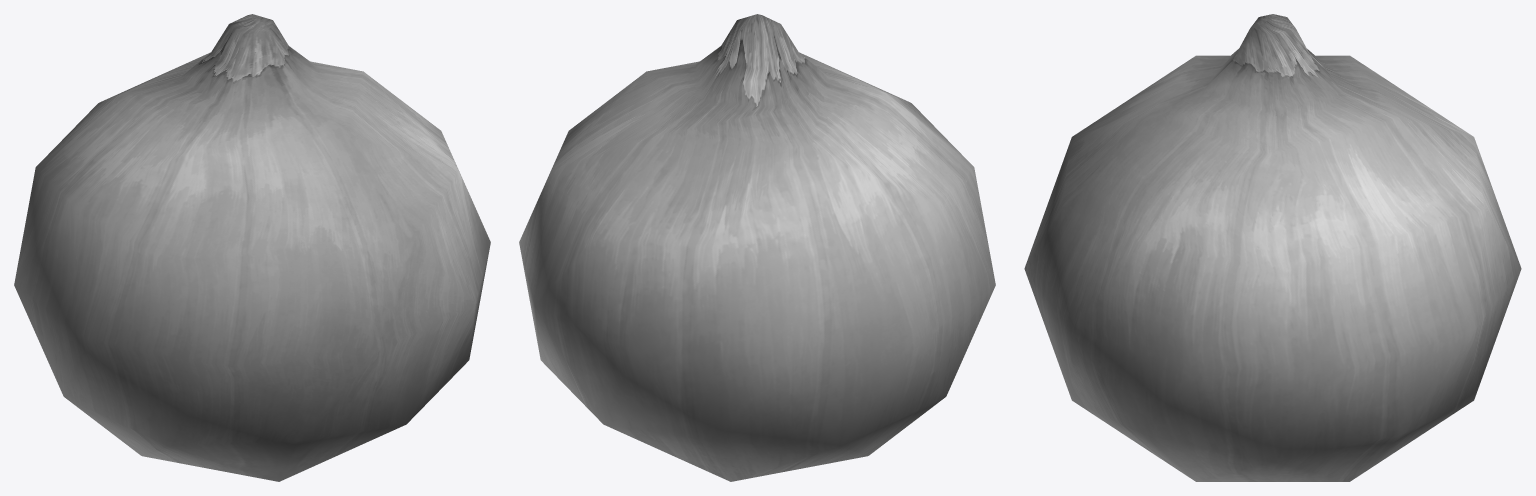
The model's file is Onion01.fbx.
3 renders of one model, left to right at view 1: azimuth 30°, elevation 25°; view 2: azimuth 150°, elevation 25°; view 3: azimuth 270°, elevation 25°, orthographic.
Parts seen in each view (by area): view 1: Onion01_LOD0; view 2: Onion01_LOD0; view 3: Onion01_LOD0.
Part boxes in pixels (x1,y1,x2,y2): Onion01_LOD0: (14, 14, 490, 481); Onion01_LOD0: (519, 14, 995, 481); Onion01_LOD0: (1024, 14, 1521, 481).
Size of what is drawn, in the model's own units: 0.1698 by 0.1813 by 0.1785.
